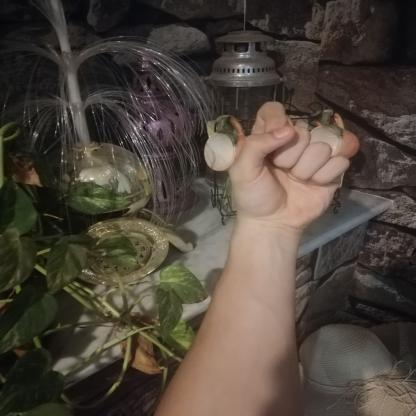FAA: (215, 94, 364, 238)
